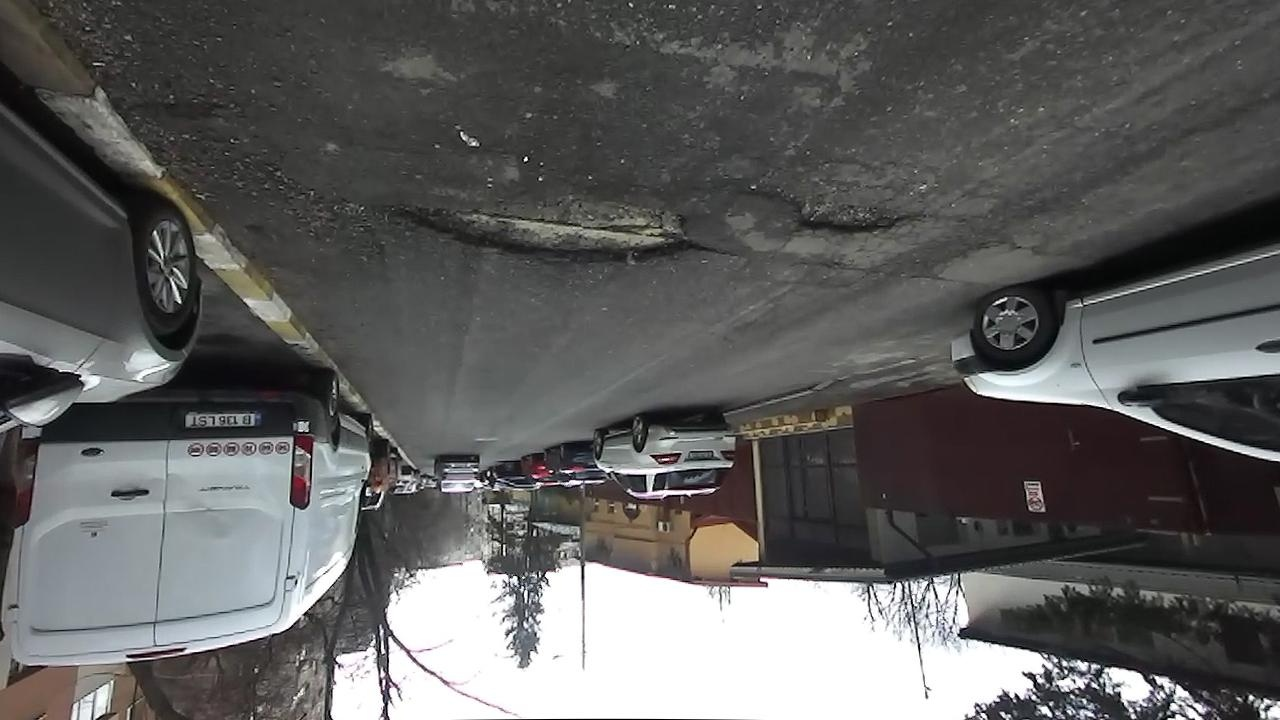pothole: (363, 180, 732, 274), (744, 180, 926, 240)
